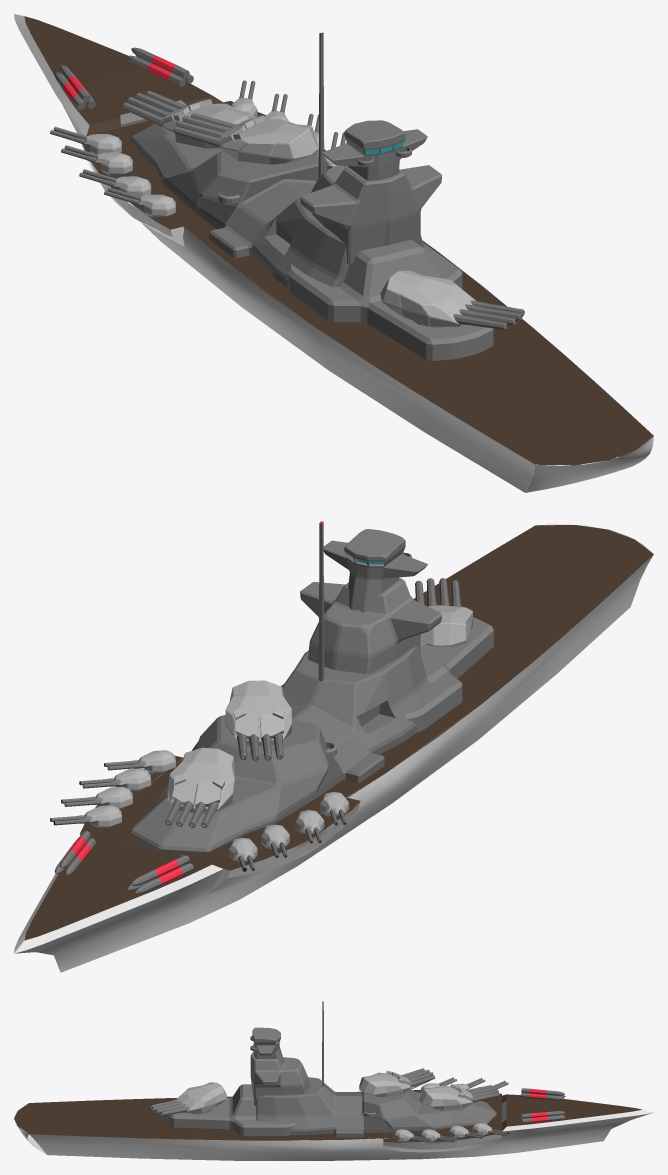
File: lo_poly_battleship.obj
The picture shows the model from 3 angles, top to bottom: view 1: azimuth 30°, elevation 25°; view 2: azimuth 150°, elevation 25°; view 3: azimuth 270°, elevation 25°; orthographic projection. The views are drawn at different scales.
Visible parts, largest first — view 1: nurbsToPoly24, polySurface148, nurbsToPoly1, pCube9, pCube8, nurbsToPoly13, nurbsToPoly3, polySurface123, pCube10, polySurface153, nurbsToPoly25, polySurface118 (+3 smaller); view 2: polySurface148, nurbsToPoly1, nurbsToPoly24, pCube8, nurbsToPoly13, nurbsToPoly3, pCube10, pCube9, polySurface118, polySurface123, nurbsToPoly4, polySurface153 (+5 smaller); view 3: nurbsToPoly107, polySurface148, nurbsToPoly24, pCube9, nurbsToPoly13, nurbsToPoly3, pCube8, polySurface118, polySurface123, polySurface153, pCube10, nurbsToPoly105 (+2 smaller).
Part boxes in pixels (left/top/right/bottom): nurbsToPoly24: left=374, top=327, right=653, bottom=465; polySurface148: left=130, top=32, right=424, bottom=287; nurbsToPoly1: left=63, top=106, right=535, bottom=492; pCube9: left=286, top=239, right=493, bottom=360; pCube8: left=300, top=165, right=441, bottom=264; nurbsToPoly13: left=87, top=102, right=531, bottom=365; nurbsToPoly3: left=24, top=16, right=211, bottom=125; polySurface123: left=219, top=115, right=318, bottom=164; pCube10: left=322, top=120, right=427, bottom=180; polySurface153: left=380, top=270, right=475, bottom=326; nurbsToPoly25: left=525, top=436, right=653, bottom=492; polySurface118: left=161, top=99, right=255, bottom=148; polySurface148: left=130, top=521, right=432, bottom=874; nurbsToPoly1: left=15, top=554, right=653, bottom=972; nurbsToPoly24: left=413, top=525, right=653, bottom=662; pCube8: left=300, top=578, right=441, bottom=673; nurbsToPoly13: left=90, top=652, right=531, bottom=868; nurbsToPoly3: left=24, top=835, right=211, bottom=940; pCube10: left=323, top=529, right=427, bottom=612; pCube9: left=405, top=617, right=493, bottom=732; polySurface118: left=167, top=747, right=235, bottom=813; polySurface123: left=225, top=680, right=292, bottom=746; nurbsToPoly4: left=14, top=864, right=222, bottom=953; polySurface153: left=420, top=605, right=472, bottom=647; nurbsToPoly107: left=29, top=1113, right=651, bottom=1160; polySurface148: left=256, top=1001, right=496, bottom=1139; nurbsToPoly24: left=14, top=1098, right=181, bottom=1139; pCube9: left=166, top=1084, right=295, bottom=1135; nurbsToPoly13: left=181, top=1095, right=501, bottom=1140; nurbsToPoly3: left=506, top=1094, right=641, bottom=1126; pCube8: left=250, top=1051, right=309, bottom=1106; polySurface118: left=419, top=1084, right=473, bottom=1110; polySurface123: left=359, top=1070, right=411, bottom=1097; polySurface153: left=176, top=1082, right=226, bottom=1113; pCube10: left=252, top=1027, right=284, bottom=1065; nurbsToPoly105: left=383, top=1134, right=501, bottom=1149.
Bounding box in the file's own units: 9.97 × 10.23 × 42.27.
